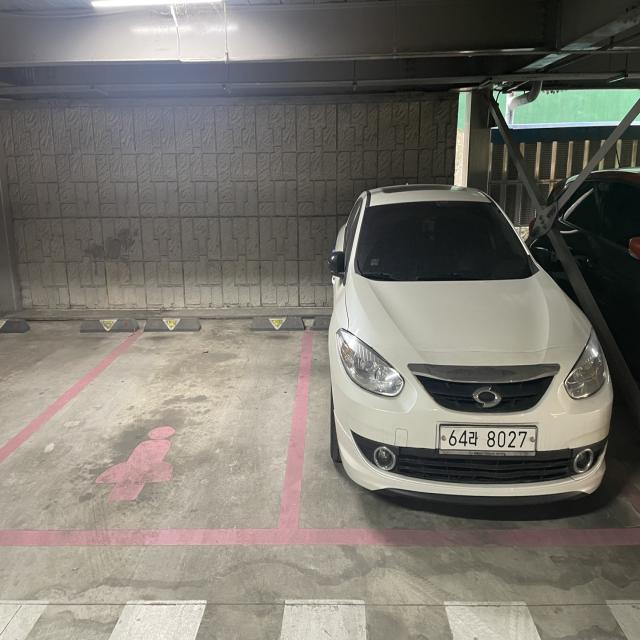empty: (0, 325, 312, 590)
occupied: (327, 187, 603, 494)
